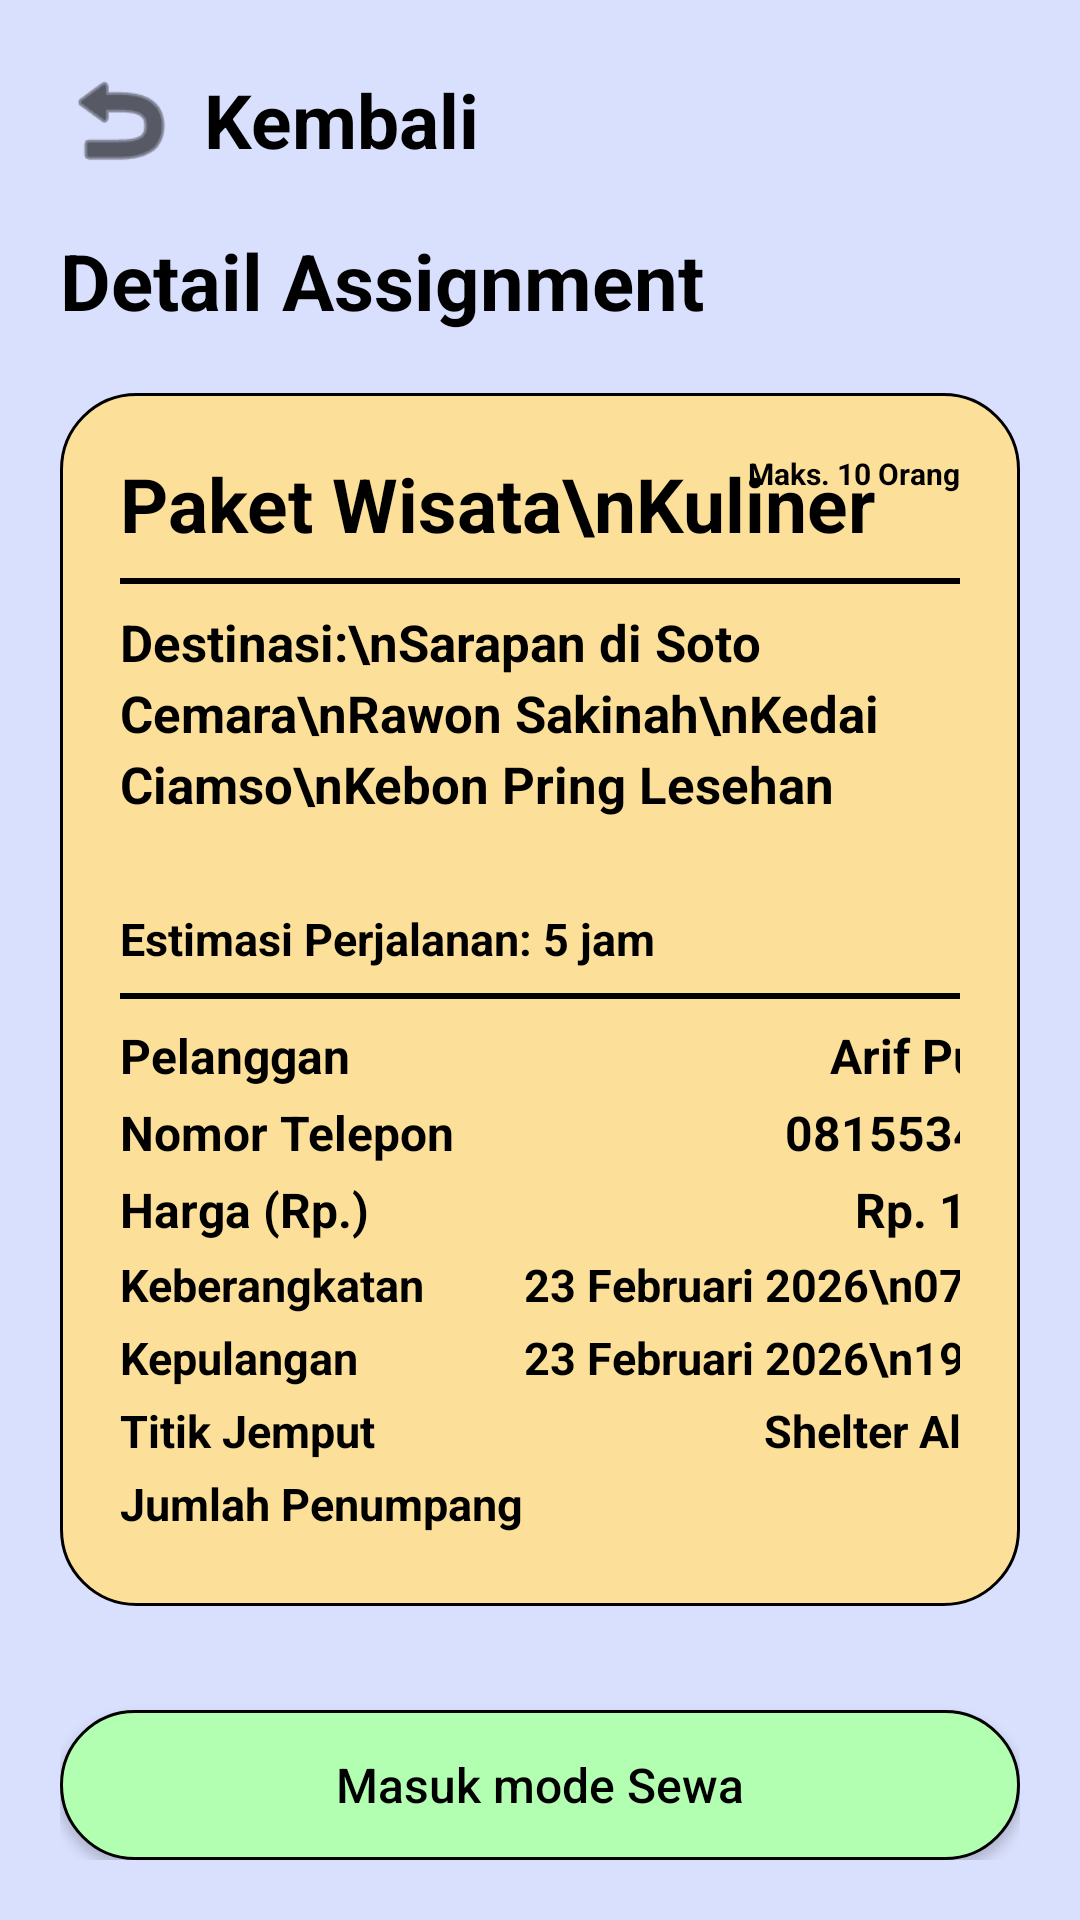

Icon bounding boxes for this 1080×1920 phone screenshot, format (x1, y1, x2, y2):
revert: (78, 81, 165, 160)
